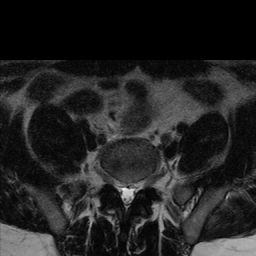CCS_normal: (123, 173, 130, 217)
LFS_normal: (138, 170, 146, 197)
LLS_normal: (130, 172, 138, 207)
RFS_normal: (108, 166, 116, 193)
RLS_normal: (116, 171, 123, 206)
